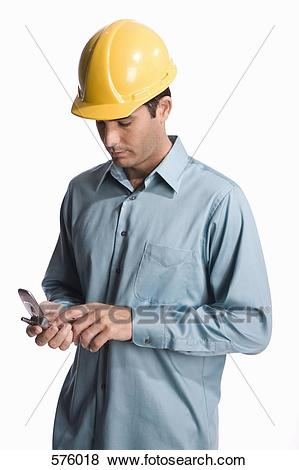Person_wearing_helmet: (60, 13, 180, 135)
